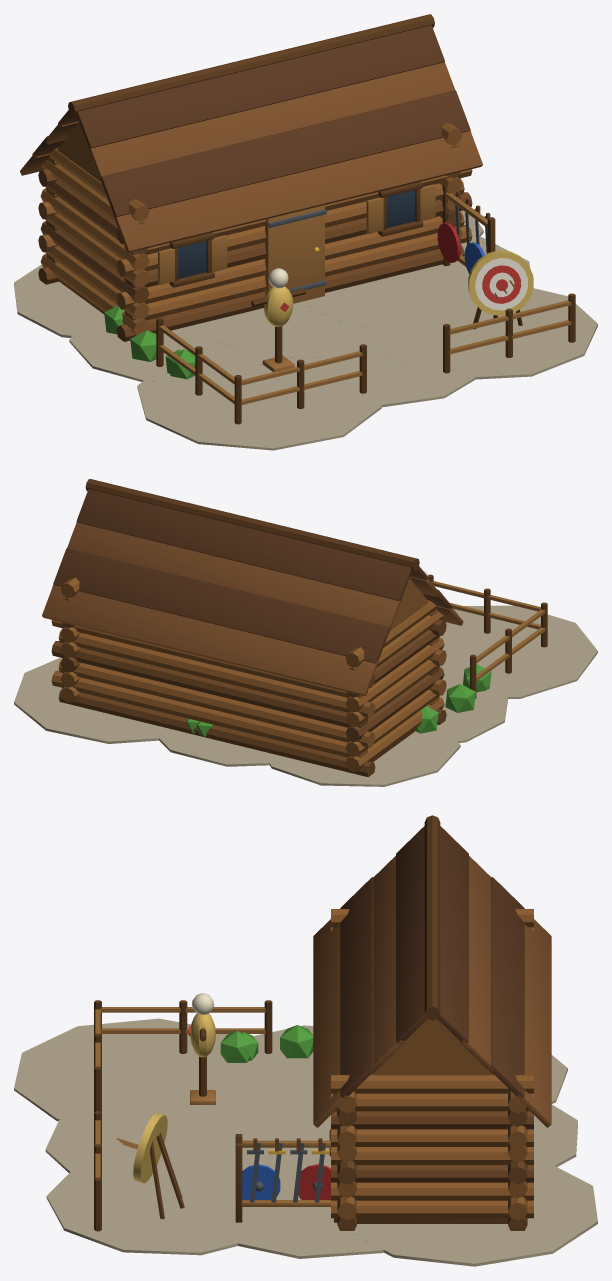
The model's file is koszary_poz06.glb.
The picture shows the model from 3 angles, top to bottom: view 1: azimuth 30°, elevation 25°; view 2: azimuth 150°, elevation 25°; view 3: azimuth 270°, elevation 25°; orthographic projection. The views are drawn at different scales.
Parts seen in each view (by area): view 1: koszary_poz06; view 2: koszary_poz06; view 3: koszary_poz06.
Part boxes in pixels (left/top/right/bottom): koszary_poz06: left=14, top=14, right=597, bottom=450; koszary_poz06: left=14, top=479, right=597, bottom=786; koszary_poz06: left=14, top=815, right=597, bottom=1266.
Bounding box in the file's own units: 8.86 × 4.03 × 8.91.
